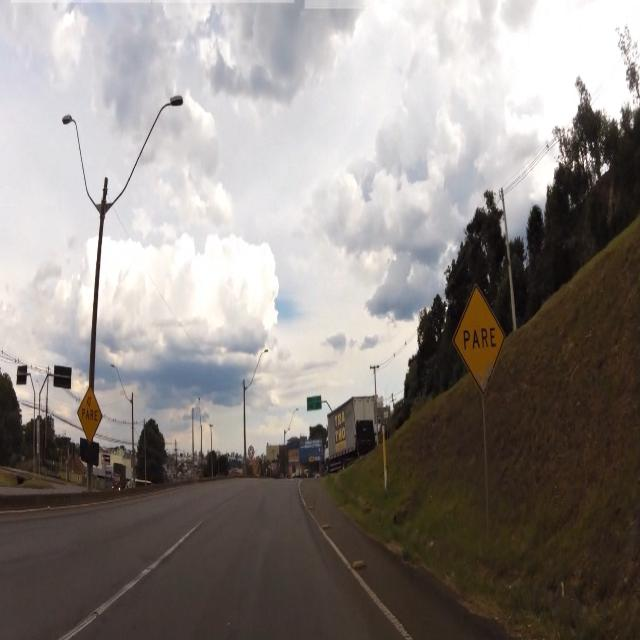A-15: (452, 274, 510, 398), (73, 387, 108, 445)
